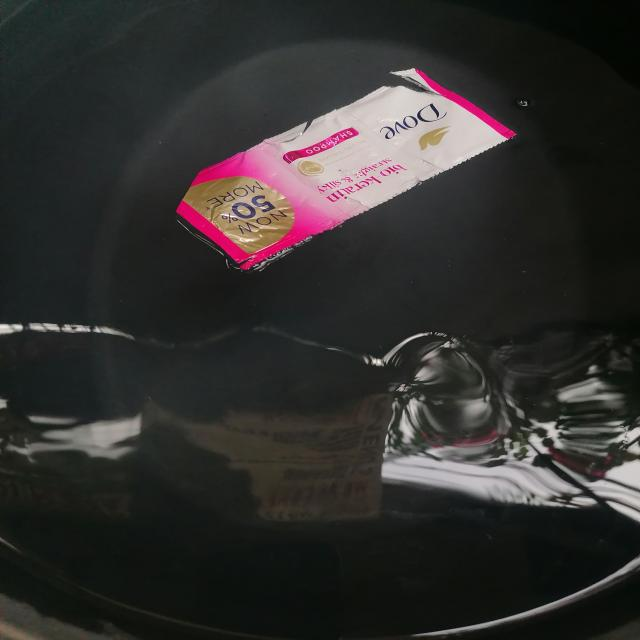Plastic Wrapper: (177, 68, 515, 271)
